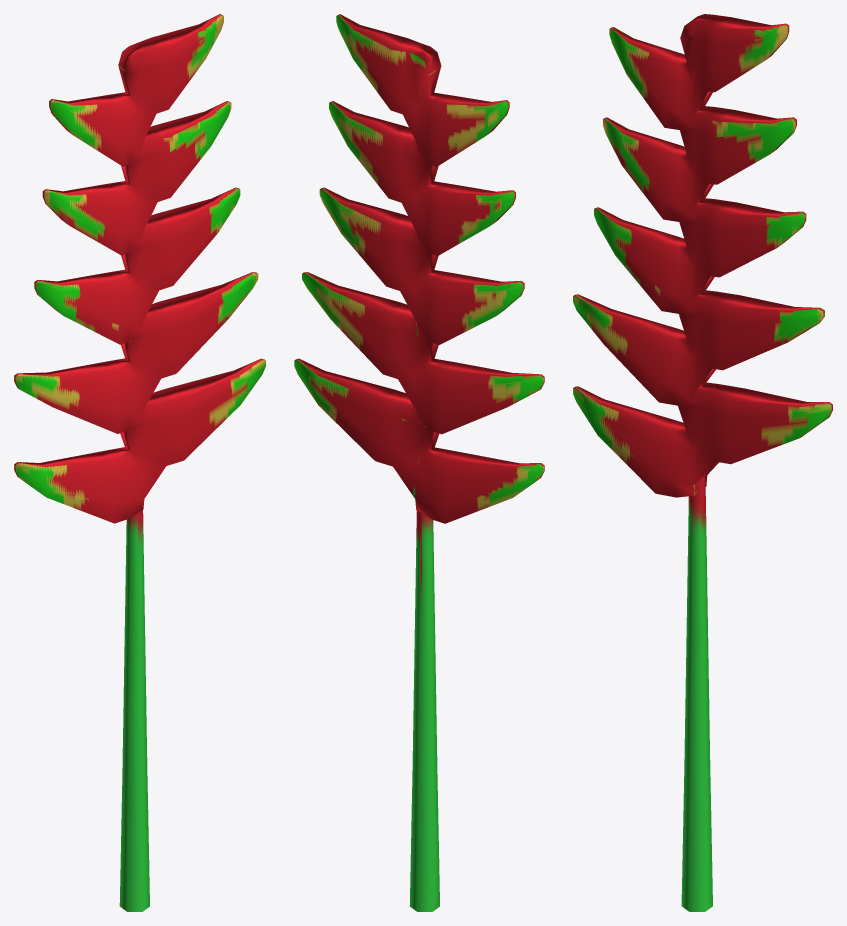
File: planta_heliconia_spp.fbx
3 renders of one model, left to right at view 1: azimuth 30°, elevation 25°; view 2: azimuth 150°, elevation 25°; view 3: azimuth 330°, elevation 25°, orthographic. The views are drawn at different scales.
Visible parts, largest first — view 1: base stem.002; view 2: base stem.002; view 3: base stem.002.
Boxes of the visible parts, <box> form: base stem.002: <box>14,14,265,911</box>; base stem.002: <box>294,14,544,911</box>; base stem.002: <box>573,14,832,911</box>.
Bounding box in the file's own units: 512 × 1708 × 71.8.
1 material, 1 textured.
